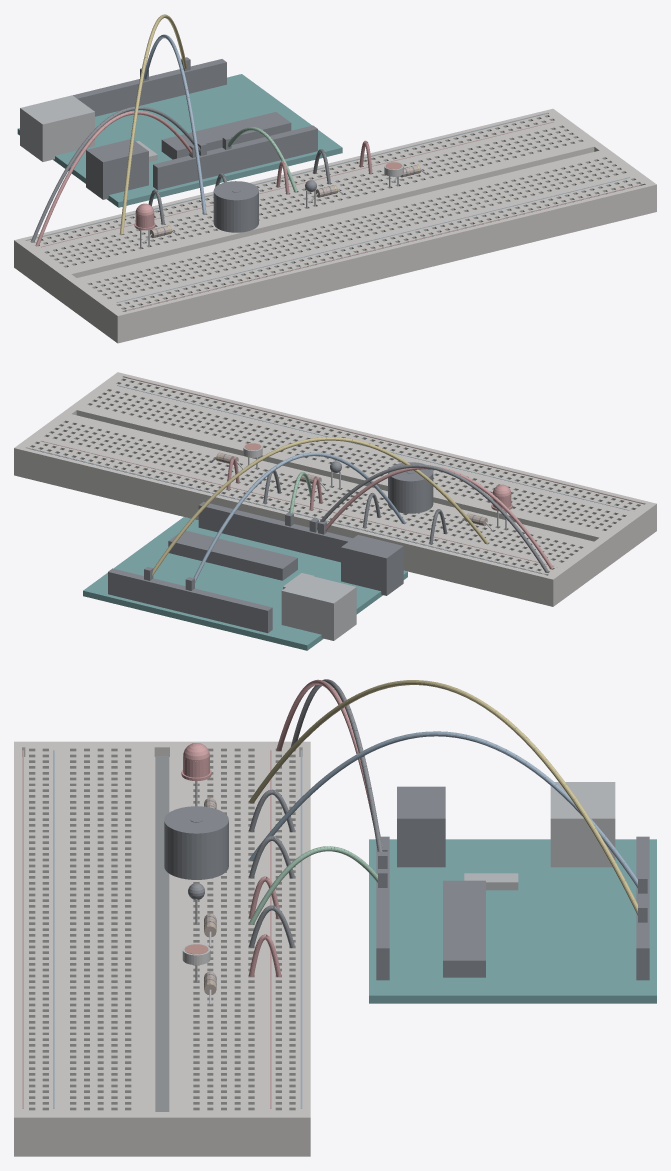
File: step-17.glb
3 views of the same model, one above another, from view 1: azimuth 30°, elevation 25°; view 2: azimuth 150°, elevation 25°; view 3: azimuth 270°, elevation 25° (orthographic). The views are drawn at different scales.
Visible parts, largest first — view 1: breadboard_1__mesh, arduino_uno__mesh, buzzer_1__mesh, wire_led_sig__mesh, wire_main_gnd__mesh, wire_main_5v__mesh, wire_buzzer_sig__mesh, led_red__mesh, wire_therm_sig__mesh; view 2: breadboard_1__mesh, arduino_uno__mesh, wire_led_sig__mesh, buzzer_1__mesh, wire_buzzer_sig__mesh, wire_main_gnd__mesh, wire_main_5v__mesh, led_red__mesh; view 3: breadboard_1__mesh, arduino_uno__mesh, buzzer_1__mesh, wire_led_sig__mesh, wire_buzzer_sig__mesh, wire_main_gnd__mesh, wire_therm_sig__mesh, led_red__mesh, wire_main_5v__mesh.
Part boxes in pixels (x1,y1,x2,y2): breadboard_1__mesh: (14,108,656,343); arduino_uno__mesh: (17,59,342,207); buzzer_1__mesh: (213,181,258,232); wire_led_sig__mesh: (120,14,190,234); wire_main_gnd__mesh: (31,106,206,242); wire_main_5v__mesh: (36,111,198,245); wire_buzzer_sig__mesh: (140,34,206,214); led_red__mesh: (134,203,155,248); wire_therm_sig__mesh: (222,127,297,192); breadboard_1__mesh: (14,372,656,606); arduino_uno__mesh: (83,502,407,650); wire_led_sig__mesh: (144,437,488,580); buzzer_1__mesh: (388,462,433,513); wire_buzzer_sig__mesh: (185,452,405,590); wire_main_gnd__mesh: (309,464,548,572); wire_main_5v__mesh: (318,466,553,569); led_red__mesh: (491,484,512,529); breadboard_1__mesh: (14,741,310,1156); arduino_uno__mesh: (369,782,656,1003); buzzer_1__mesh: (164,806,228,879); wire_led_sig__mesh: (249,680,647,922); wire_buzzer_sig__mesh: (249,731,647,893); wire_main_gnd__mesh: (291,679,387,868); wire_therm_sig__mesh: (249,846,387,924); led_red__mesh: (181,743,211,806); wire_main_5v__mesh: (276,679,387,851).
Size of the model in its own units: 0.165 by 0.0463 by 0.1192.
